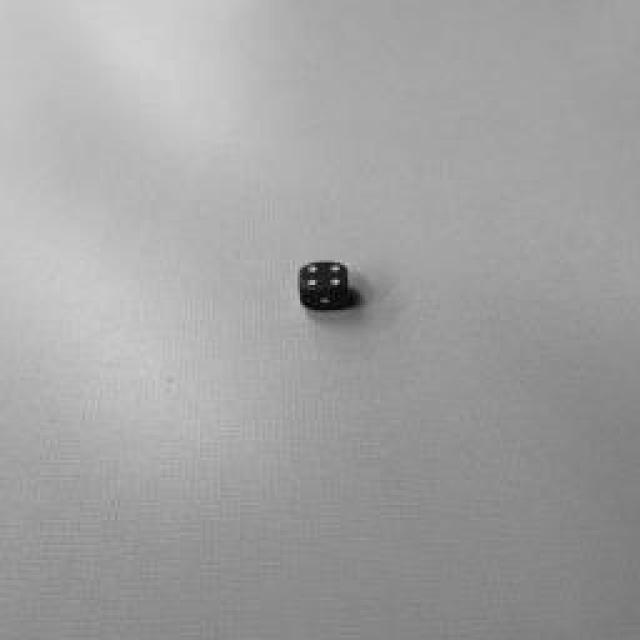dice_4: (298, 260, 348, 290)
